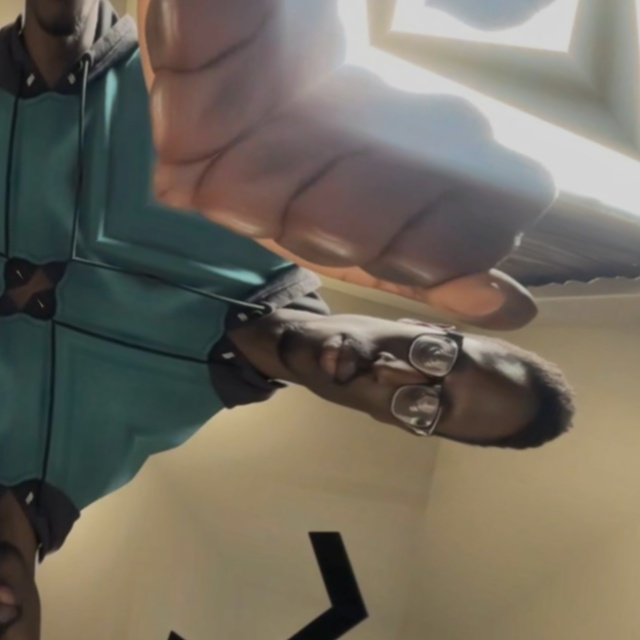Rock: (513, 0, 640, 213)
